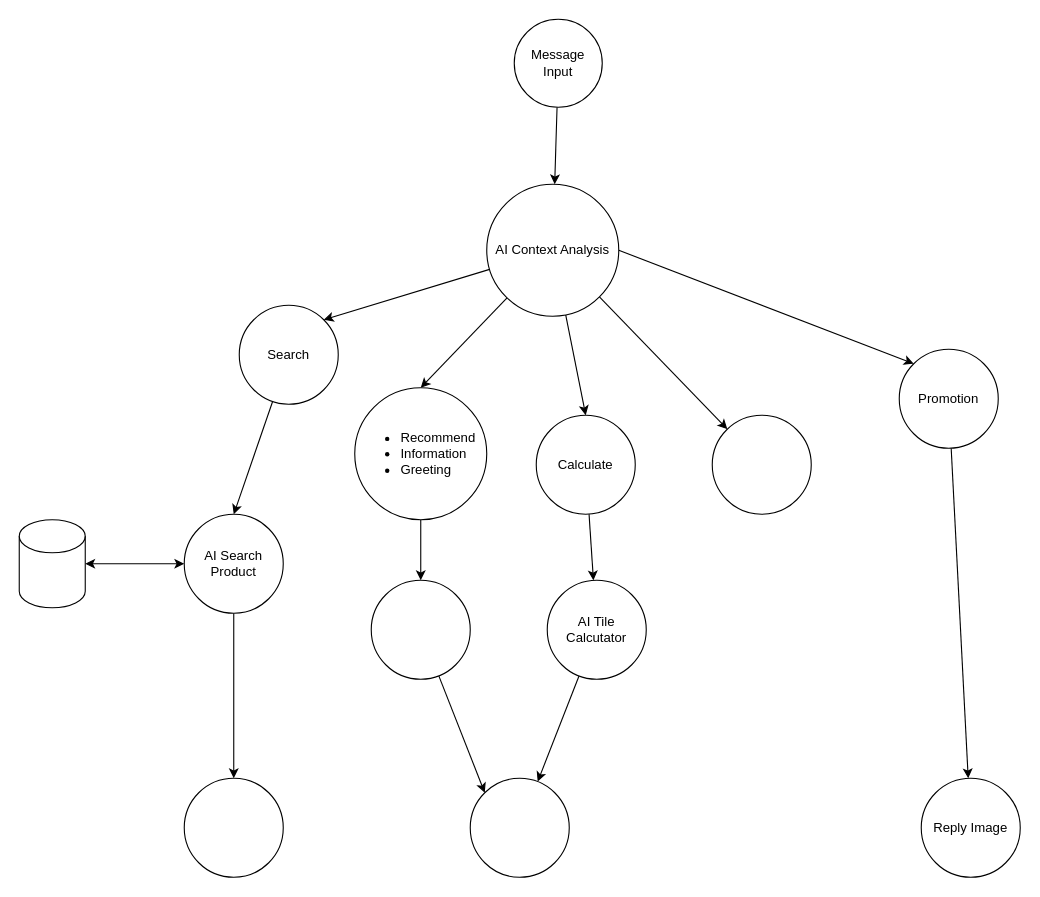
The diagram is 1040 pixels wide and 897 high, and some of its shapes have lost their labels. The centre of each missing label's shape, as x and y in pixels:
"AI Marine Assistant" belongs at point (420, 629).
"Complain" belongs at point (761, 464).
"Reply Message" belongs at point (519, 827).
"Reply Products" belongs at point (233, 827).
